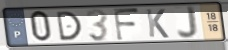0: (29, 9, 55, 45)
3: (85, 8, 112, 43)
D: (55, 10, 84, 42)
F: (112, 7, 142, 42)
J: (176, 5, 199, 41)
K: (144, 8, 171, 40)
